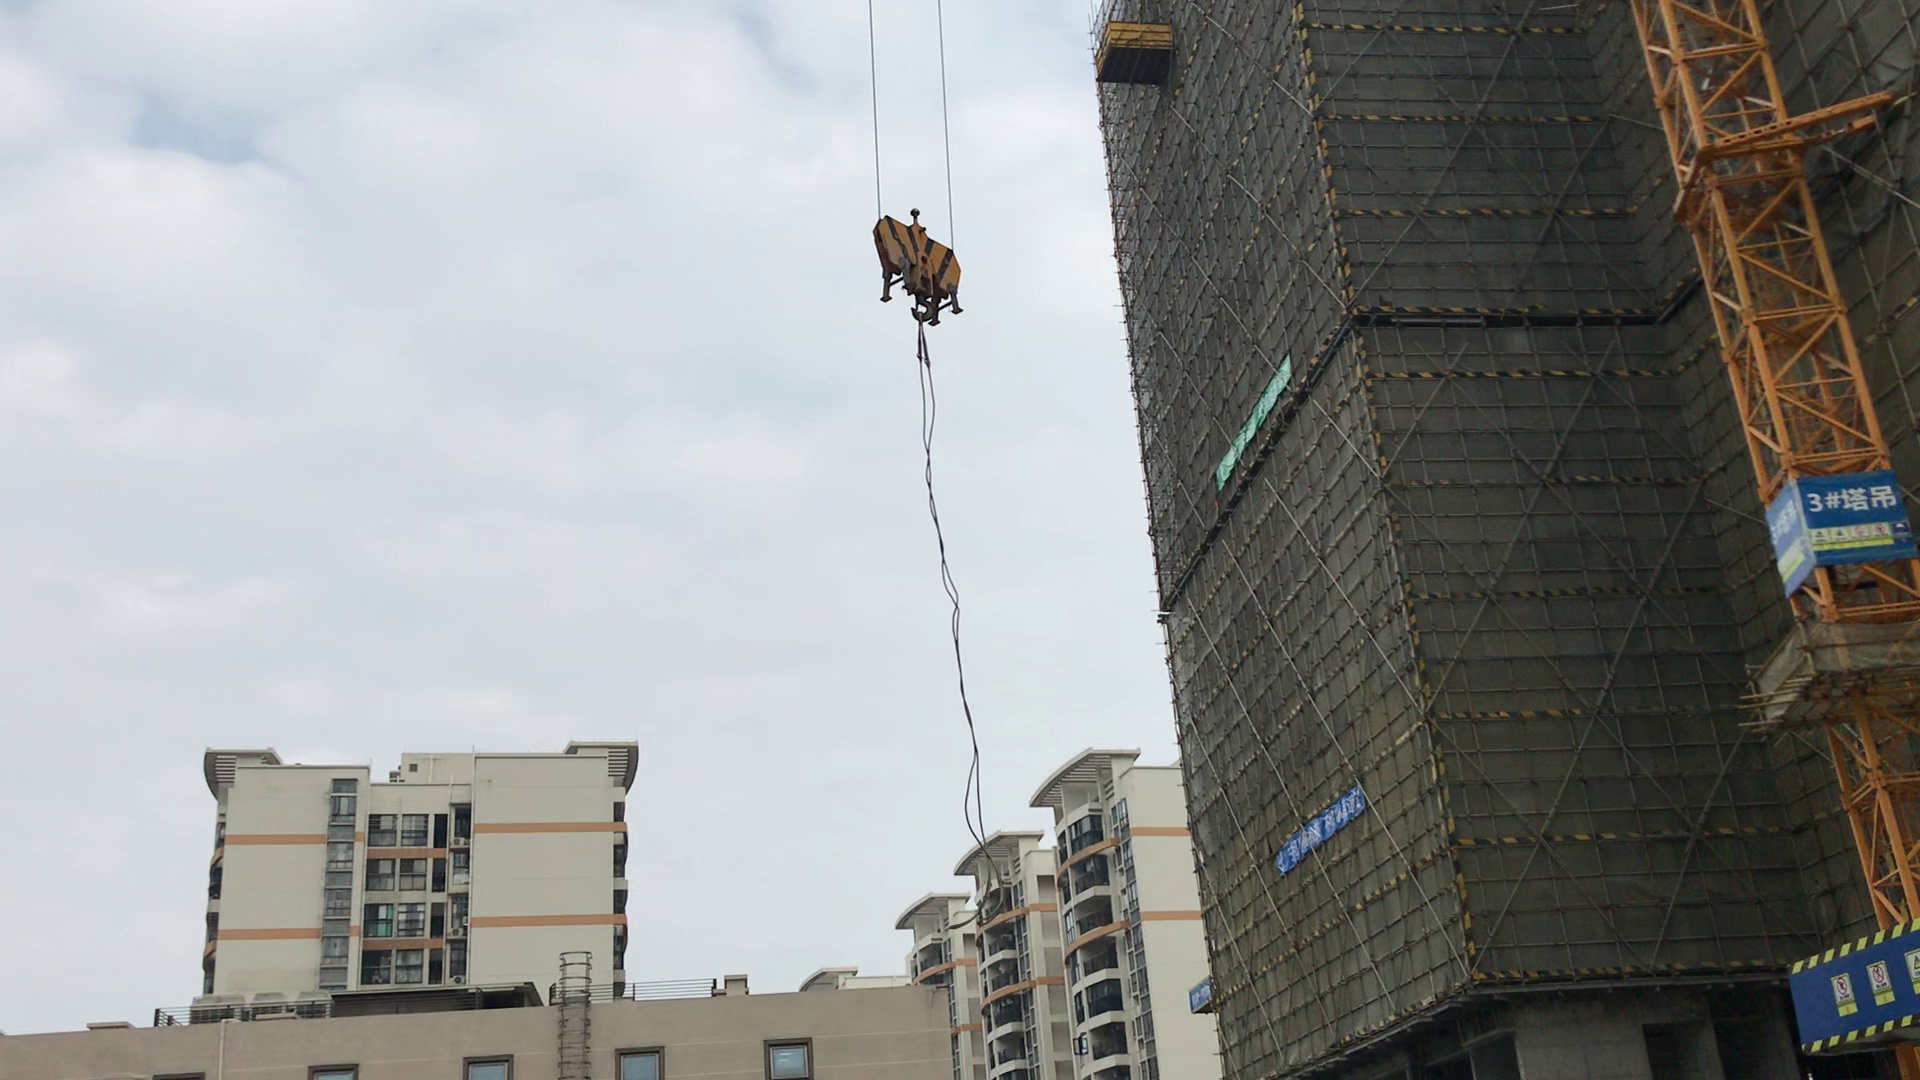hook: (873, 206, 965, 331)
slogan: (1220, 360, 1286, 492), (1276, 785, 1367, 880), (1815, 956, 1920, 1015), (1803, 520, 1894, 551)
